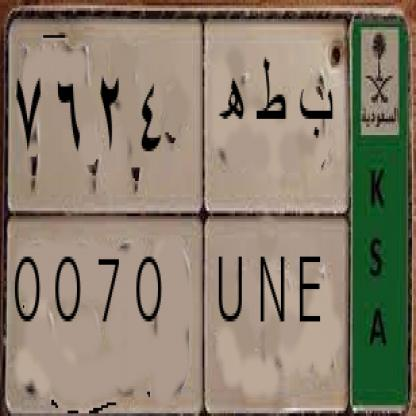english: (8, 214, 349, 398)
